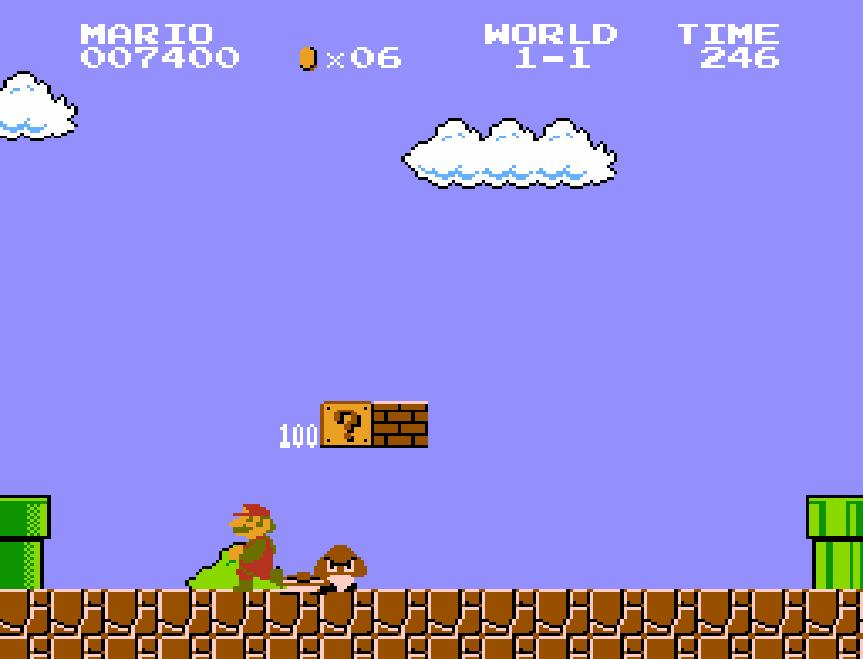big_mario: (227, 496, 284, 594)
